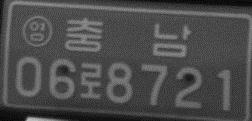0: (14, 55, 42, 99)
1: (211, 68, 242, 112)
2: (173, 65, 204, 109)
6: (49, 59, 76, 100)
7: (140, 63, 169, 106)
8: (105, 61, 134, 104)
로: (78, 61, 103, 100)
영: (22, 13, 53, 48)
충남_D: (64, 16, 192, 58)
